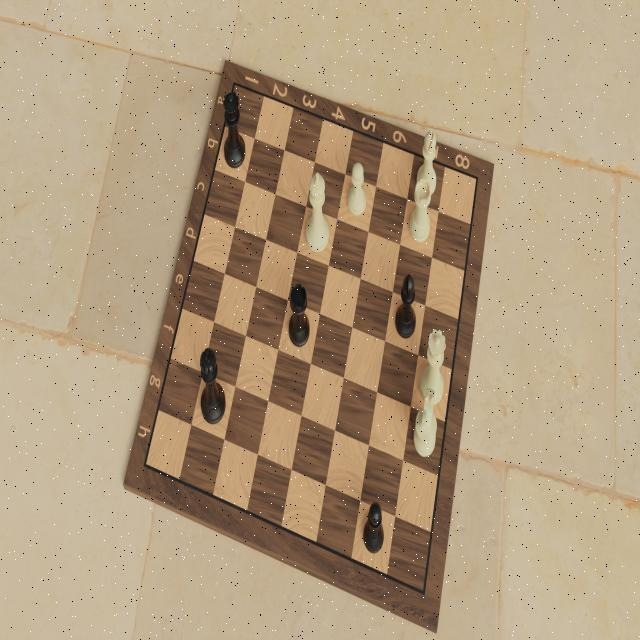black-bishop: (394, 272, 418, 341)
black-king: (198, 343, 228, 427)
black-pawn: (362, 501, 385, 555)
black-queen: (222, 87, 248, 170)
black-rook: (287, 280, 313, 348)
white-bishop: (414, 127, 440, 202)
white-king: (304, 170, 332, 254)
white-knight: (410, 383, 438, 461)
white-pawn: (346, 159, 370, 221)
white-queen: (416, 324, 447, 409)
white-rook: (407, 176, 432, 246)
